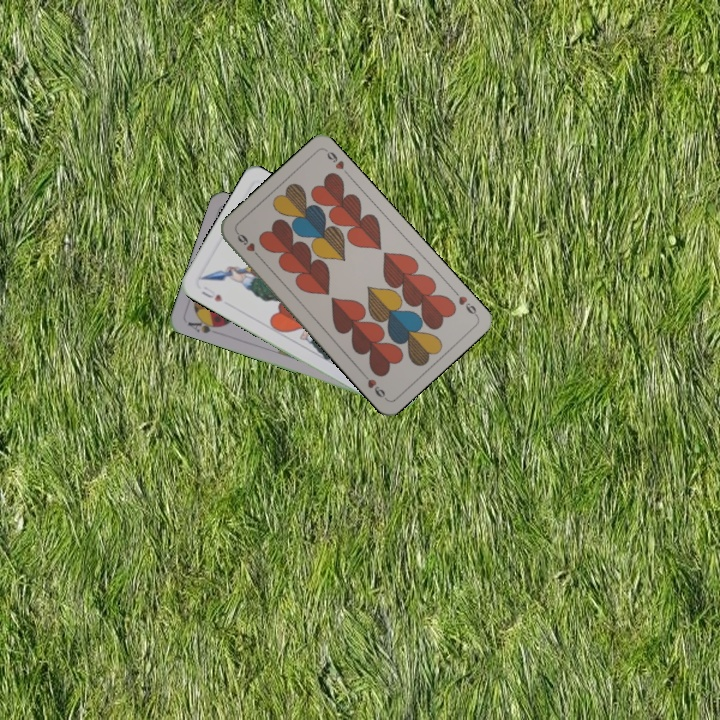H9: (449, 285, 480, 319), (232, 228, 263, 261)
HU: (197, 282, 225, 305)
SA: (183, 314, 225, 336)
